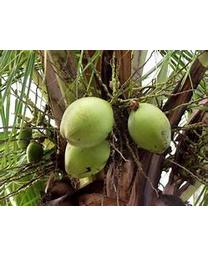coconut: (60, 96, 115, 147), (127, 100, 171, 156), (65, 134, 112, 179)
